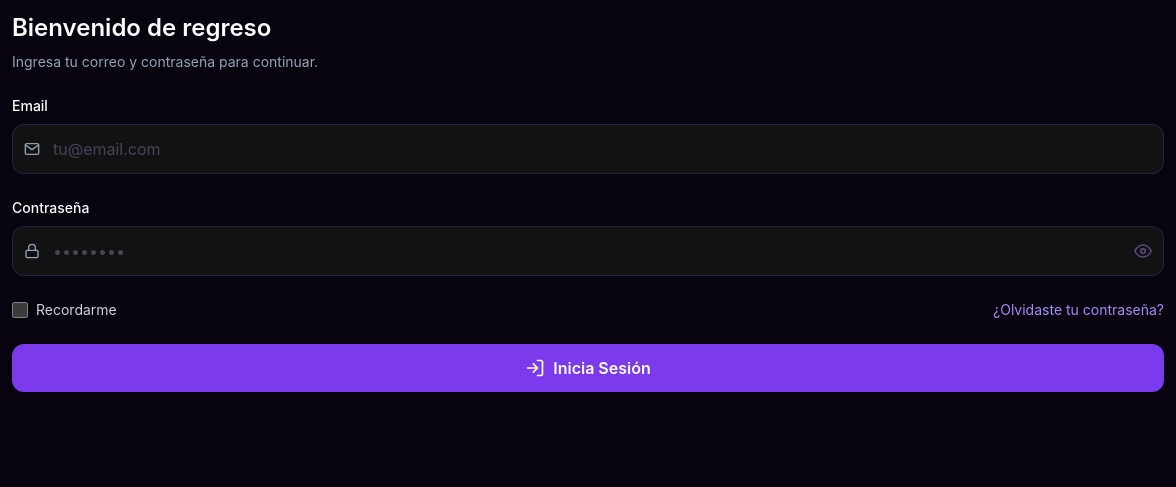
Test: LoginForm › login fallido › muestra mensaje genérico (fallback) si el error no es un Error
Type "user@emeet.com" into the field with placeholder "tu@email.com" at (588, 149), box 12,124 -> 1164,174
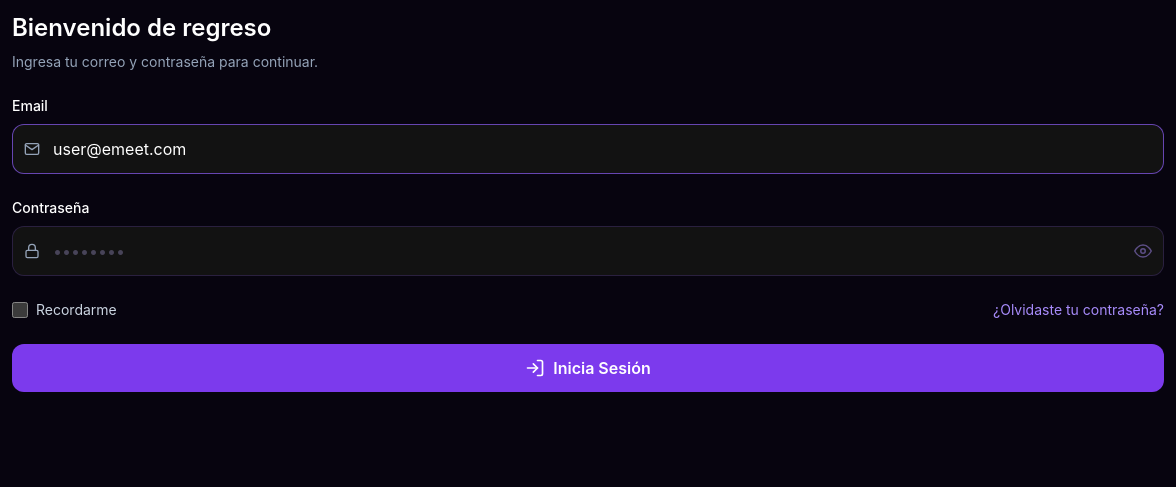
Type "wrongpass" into the password field with placeholder "••••••••" at (588, 251), box 12,226 -> 1164,276
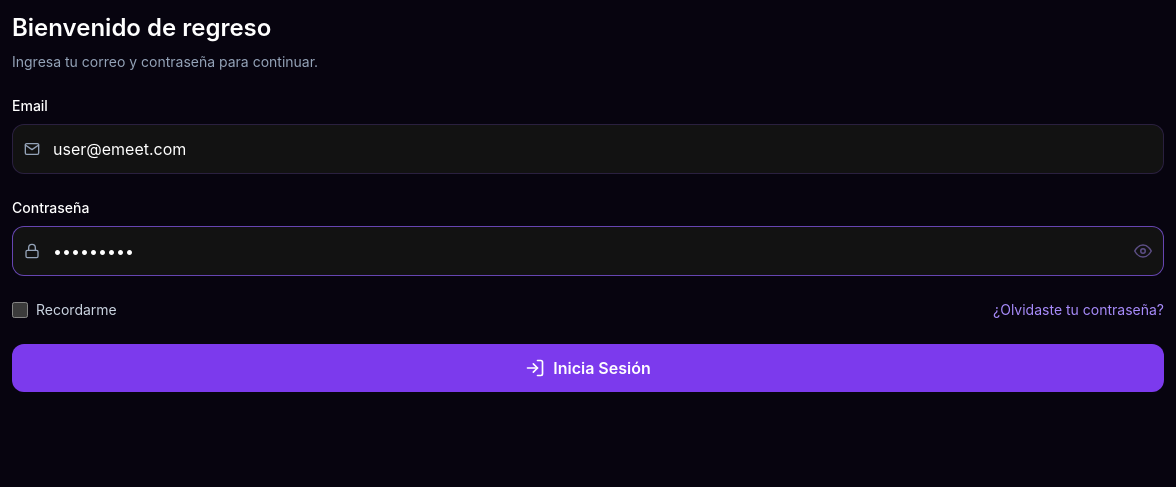
Click the button "Inicia Sesión" at (588, 368), box 12,344 -> 1164,392
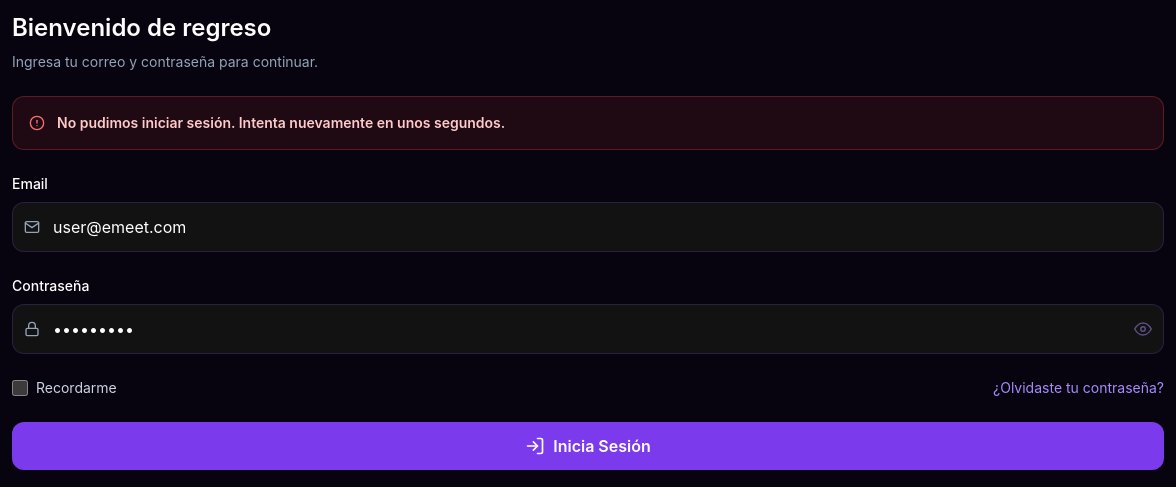
Expected: the text "No pudimos iniciar sesión. Intenta nuevamente en unos segundos." is shown, 57,114 -> 505,131
